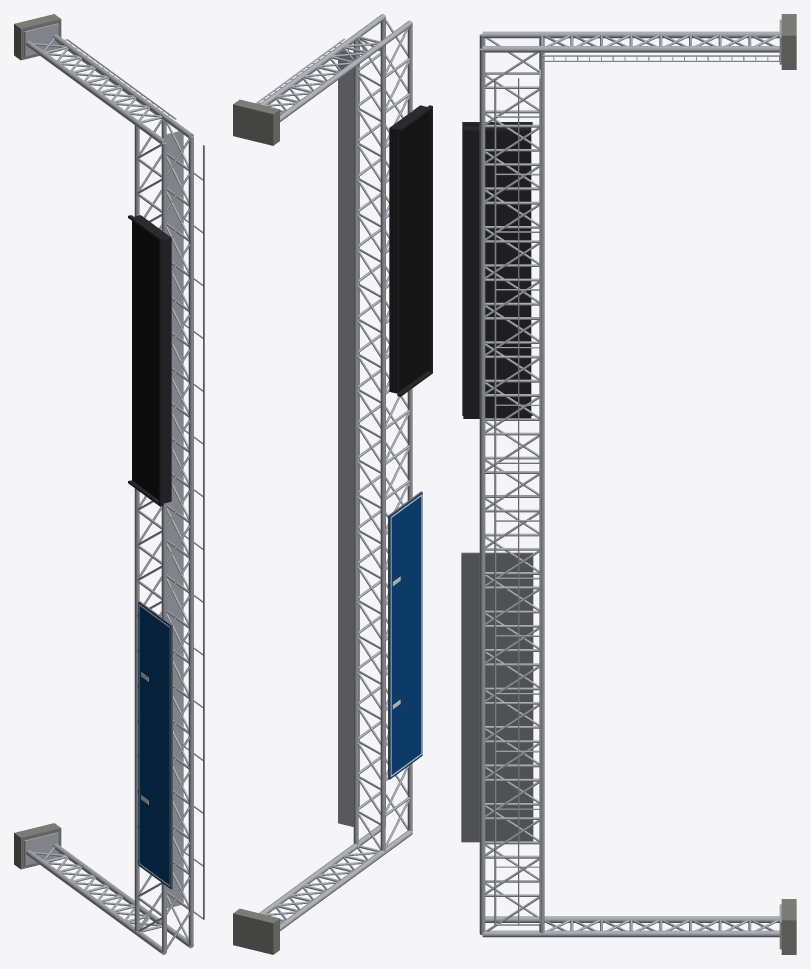
File: SM_Portico_Autovia_2300.obj
The picture shows the model from 3 angles, left to right: view 1: azimuth 30°, elevation 25°; view 2: azimuth 150°, elevation 25°; view 3: azimuth 270°, elevation 25°; orthographic projection. The views are drawn at different scales.
Parts seen in each view (by area): view 1: SM_Portico_Autovia_2300; view 2: SM_Portico_Autovia_2300; view 3: SM_Portico_Autovia_2300.
Boxes of the visible parts, <box> form: SM_Portico_Autovia_2300: <box>14,14,204,954</box>; SM_Portico_Autovia_2300: <box>233,14,432,954</box>; SM_Portico_Autovia_2300: <box>461,14,796,954</box>.
Bounding box in the file's own units: 178 × 2390 × 790.
